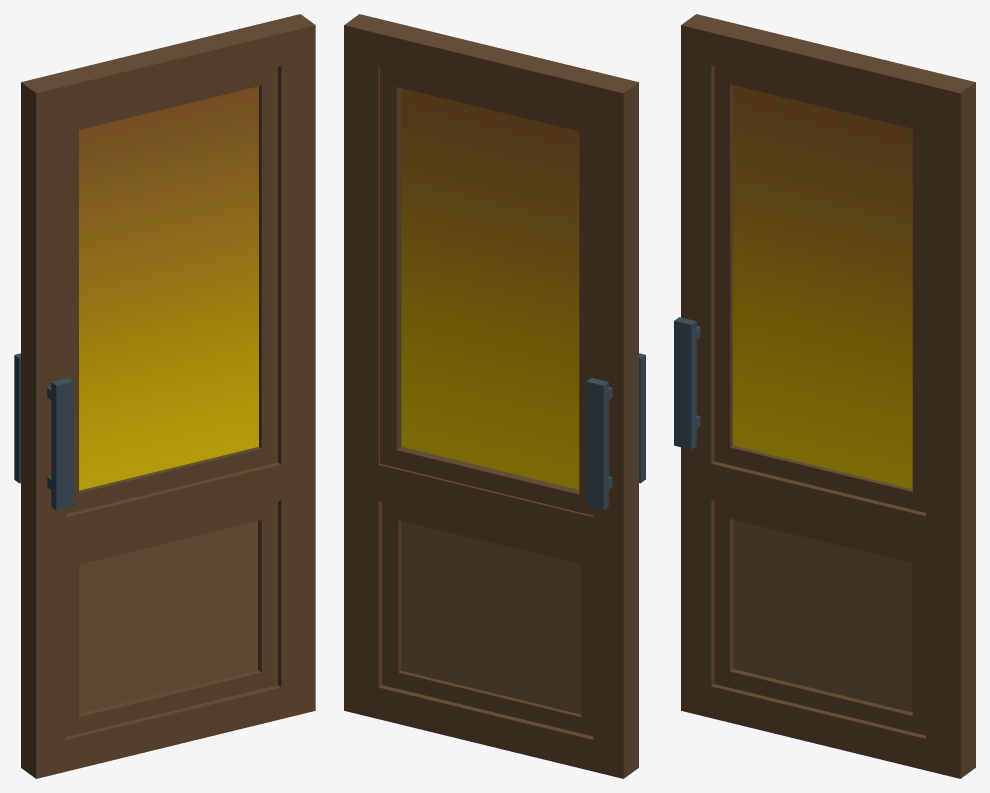
File: SM_Buildings_House_14_Door_01.fbx
The picture shows the model from 3 angles, left to right: view 1: azimuth 30°, elevation 25°; view 2: azimuth 150°, elevation 25°; view 3: azimuth 330°, elevation 25°; orthographic projection.
Visible parts, largest first — view 1: SM_Buildings_House_14_Door_01; view 2: SM_Buildings_House_14_Door_01; view 3: SM_Buildings_House_14_Door_01.
Boxes of the visible parts, bbox=[...] form: SM_Buildings_House_14_Door_01: bbox=[14, 14, 315, 778]; SM_Buildings_House_14_Door_01: bbox=[344, 14, 645, 778]; SM_Buildings_House_14_Door_01: bbox=[674, 14, 975, 778].
Size of the model in its own units: 0.892 by 2.09 by 0.2336.
